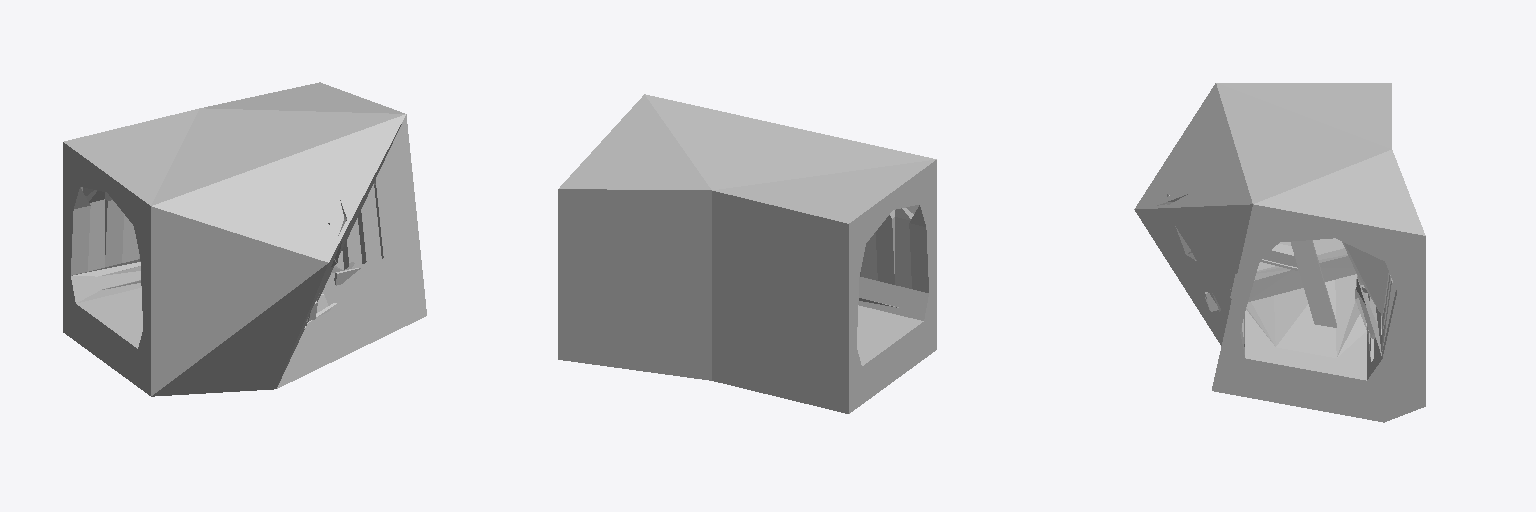
File: Corridor Broken.obj
The picture shows the model from 3 angles: view 1: azimuth 30°, elevation 25°; view 2: azimuth 150°, elevation 25°; view 3: azimuth 270°, elevation 25°; orthographic projection.
Parts seen in each view (by area): view 1: SketchUp.012_ID83.003, SketchUp.117_ID409.004, SketchUp.035_ID225.004, SketchUp.038_ID243.004, SketchUp.020_ID133.002, SketchUp.019_ID127.003, SketchUp.010_ID71.003, SketchUp.054_ID343.002, SketchUp.050_ID319.002; view 2: SketchUp.012_ID83.003, SketchUp.119_ID421.004, SketchUp.038_ID243.004, SketchUp.004_ID35.003, SketchUp.023_ID151.002, SketchUp.016_ID109.003, SketchUp.131_ID493.004, SketchUp.141_ID553.003, SketchUp.140_ID547.003; view 3: SketchUp.012_ID83.003, SketchUp.117_ID409.004, SketchUp.035_ID225.004, SketchUp.038_ID243.004, SketchUp.042_ID267.002, SketchUp.033_ID213.004, SketchUp.026_ID171.004, SketchUp.017_ID115.003, SketchUp.020_ID133.002, SketchUp.040_ID255.004.
Boxes of the visible parts, x1,y1,x2,y2 form: SketchUp.012_ID83.003: [63, 82, 404, 396]; SketchUp.117_ID409.004: [277, 114, 426, 388]; SketchUp.035_ID225.004: [152, 114, 405, 262]; SketchUp.038_ID243.004: [77, 288, 142, 348]; SketchUp.020_ID133.002: [71, 259, 141, 303]; SketchUp.019_ID127.003: [71, 187, 96, 275]; SketchUp.010_ID71.003: [105, 192, 123, 266]; SketchUp.054_ID343.002: [88, 199, 104, 271]; SketchUp.050_ID319.002: [122, 214, 138, 262]; SketchUp.012_ID83.003: [559, 94, 936, 413]; SketchUp.119_ID421.004: [558, 189, 711, 380]; SketchUp.038_ID243.004: [857, 305, 923, 365]; SketchUp.004_ID35.003: [902, 205, 928, 292]; SketchUp.023_ID151.002: [858, 277, 928, 320]; SketchUp.016_ID109.003: [876, 210, 894, 284]; SketchUp.131_ID493.004: [895, 217, 911, 288]; SketchUp.141_ID553.003: [859, 284, 901, 307]; SketchUp.140_ID547.003: [861, 232, 877, 280]; SketchUp.012_ID83.003: [1212, 83, 1425, 422]; SketchUp.117_ID409.004: [1135, 204, 1252, 345]; SketchUp.035_ID225.004: [1134, 83, 1252, 209]; SketchUp.038_ID243.004: [1245, 238, 1366, 380]; SketchUp.042_ID267.002: [1274, 280, 1336, 357]; SketchUp.033_ID213.004: [1205, 248, 1356, 311]; SketchUp.026_ID171.004: [1291, 240, 1336, 327]; SketchUp.017_ID115.003: [1342, 242, 1389, 316]; SketchUp.020_ID133.002: [1355, 275, 1381, 379]; SketchUp.040_ID255.004: [1260, 244, 1297, 270].
Bounding box in the file's own units: 8.4 × 6.94 × 7.74.